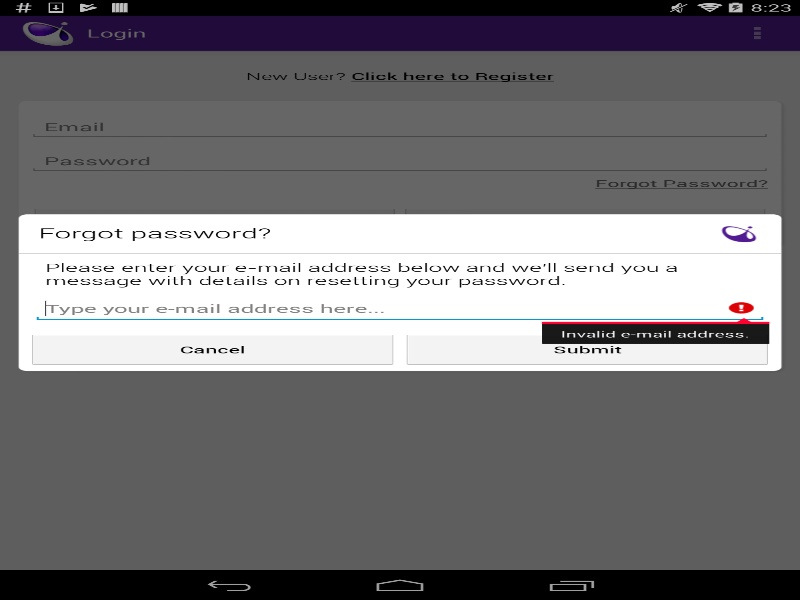Button: (406, 334, 768, 364), (32, 334, 393, 364)
Input: (32, 294, 768, 322)
